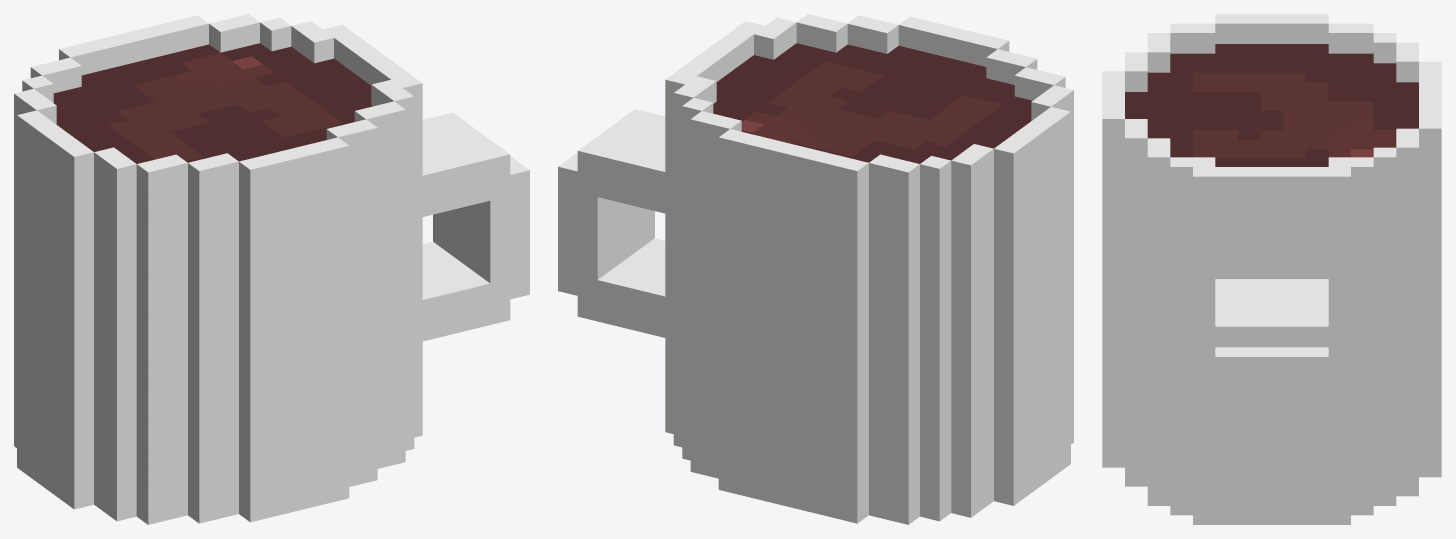
Rendered from coffee.glb.
The picture shows the model from 3 angles, left to right: view 1: azimuth 30°, elevation 25°; view 2: azimuth 150°, elevation 25°; view 3: azimuth 270°, elevation 25°; orthographic projection.
Visible parts, largest first — view 1: Layer.1; view 2: Layer.1; view 3: Layer.1.
Part boxes in pixels (bbox=[...]): Layer.1: bbox=[14, 14, 529, 524]; Layer.1: bbox=[558, 14, 1073, 524]; Layer.1: bbox=[1102, 14, 1441, 524].
Bounding box in the file's own units: 23 × 17 × 15.
1 material, 1 textured.
